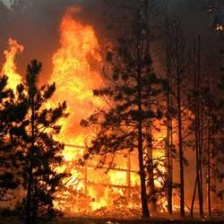fire: (54, 118, 165, 211), (53, 27, 97, 91), (3, 46, 23, 86)
